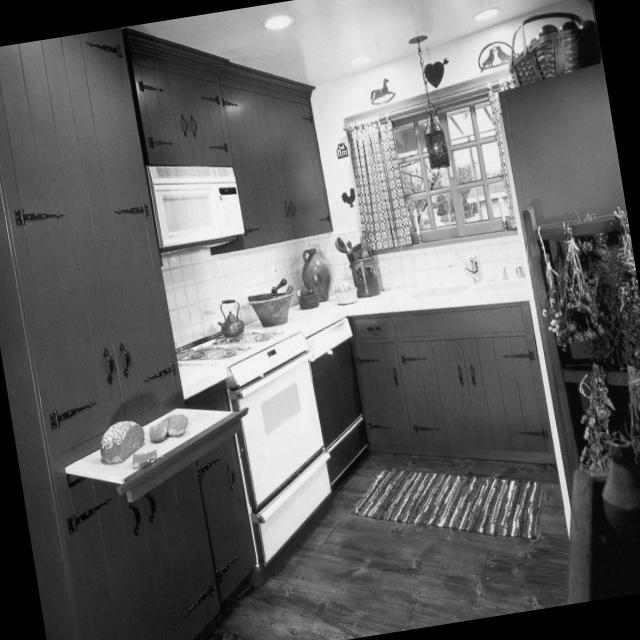2001: (345, 71, 519, 256)
2025: (199, 453, 569, 640)
2031: (333, 229, 371, 261)
apple: (538, 22, 559, 36), (560, 20, 579, 31), (579, 18, 595, 27)
basket of bread: (508, 12, 602, 84)
birds: (475, 37, 519, 73)
bowl: (296, 284, 319, 309)
bowl of garlic: (334, 280, 358, 305)
bread box: (100, 418, 145, 461)
burner: (177, 345, 222, 360), (207, 347, 250, 359), (246, 332, 281, 343)
cabinet door: (52, 460, 221, 640), (201, 440, 258, 605)
cabinets: (121, 28, 334, 257)
candle holder: (498, 196, 509, 230), (412, 210, 422, 243)
ceiling beam: (128, 0, 559, 85)
ceiling lamps: (409, 34, 451, 170)
counter bottom: (67, 403, 251, 505)
cubbord: (0, 38, 126, 453), (61, 30, 175, 420), (461, 335, 548, 452), (403, 338, 479, 449), (357, 343, 414, 444)
curtains: (350, 113, 415, 253)
dishwasher: (309, 319, 371, 486)
drapes: (486, 75, 517, 230)
drawer handle: (353, 316, 395, 339)
dried herbs: (574, 231, 640, 368), (557, 227, 606, 345), (578, 365, 616, 467), (538, 234, 571, 350), (615, 221, 640, 353), (628, 361, 640, 469)
drying rack: (523, 207, 640, 476)
faucet handle: (464, 256, 486, 283)
handle bar: (269, 277, 288, 297)
heart: (420, 58, 451, 92)
horse figure: (367, 75, 397, 109)
house model: (336, 141, 348, 161)
jug: (603, 436, 640, 539), (301, 247, 331, 302)
light fixture: (472, 6, 502, 21), (265, 18, 293, 31), (348, 53, 370, 67)
microwave oven: (145, 165, 246, 250)
mixing bowl: (248, 291, 295, 328)
oven cloth: (234, 353, 332, 568)
pot hanger: (349, 257, 380, 298)
rooster: (340, 187, 356, 209)
rug -partially obscured-: (349, 468, 544, 538)
sink basin: (414, 276, 528, 301)
sliced bread: (164, 412, 189, 436), (133, 449, 157, 471), (148, 421, 167, 442)
soap: (495, 265, 509, 280)
stove top: (176, 330, 309, 390)
tea pot: (218, 299, 245, 336)
wall clock: (162, 0, 594, 349)
